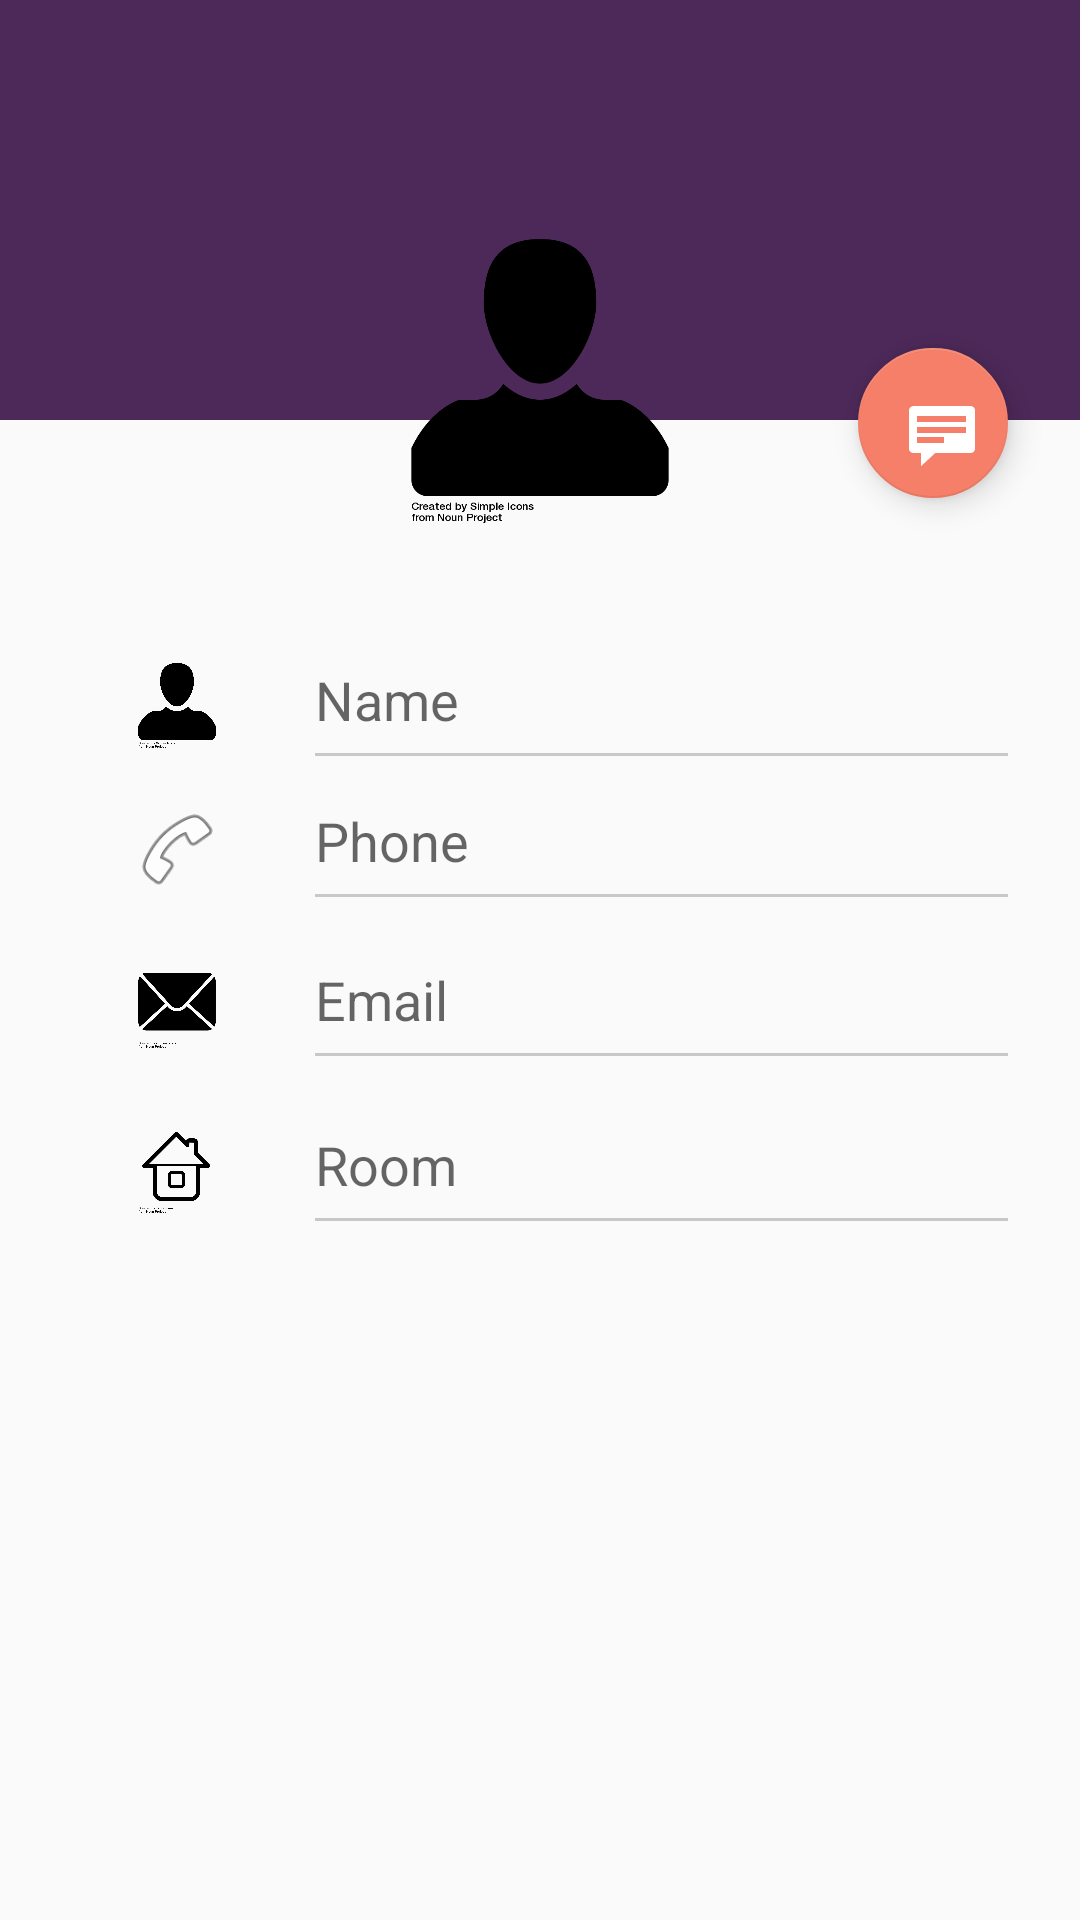

Point at icon controls on the screen. Image size 1080 × 1920, points as [x,y].
building: [174,1172]
call: [177,849]
chat: [933,423]
profile: [540,389], [177,705]
